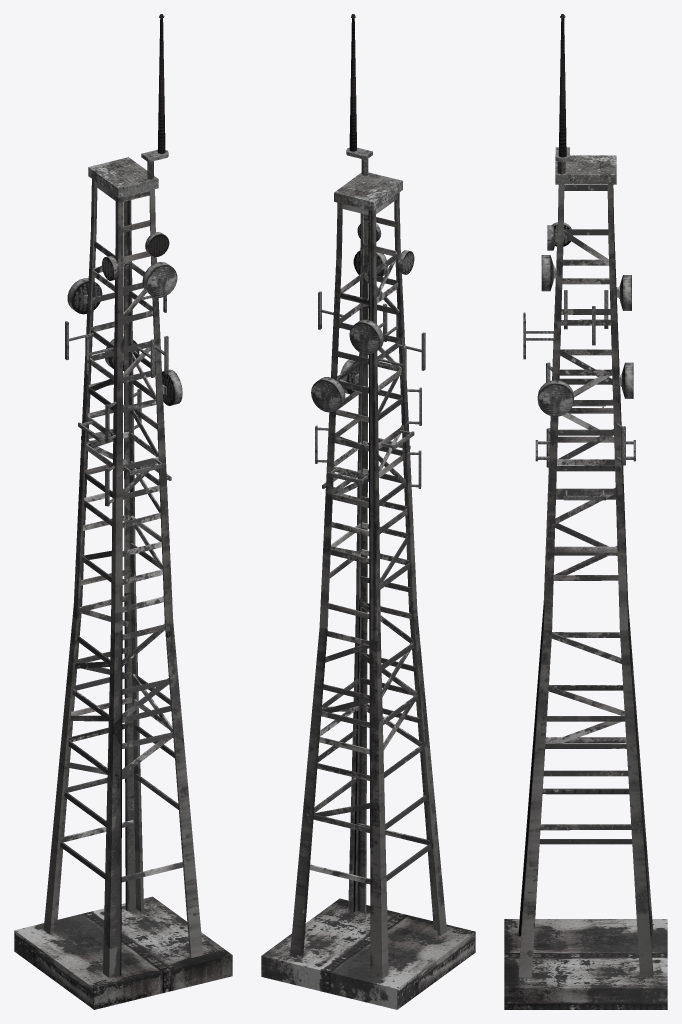
File: TowerAntenna05.FBX
The picture shows the model from 3 angles, left to right: view 1: azimuth 30°, elevation 25°; view 2: azimuth 150°, elevation 25°; view 3: azimuth 270°, elevation 25°; orthographic projection. The views are drawn at different scales.
Parts seen in each view (by area): view 1: TowerAntenna05; view 2: TowerAntenna05; view 3: TowerAntenna05.
Part boxes in pixels (x1,y1,x2,y2): TowerAntenna05: (14, 14, 232, 1009); TowerAntenna05: (261, 14, 475, 1009); TowerAntenna05: (504, 14, 667, 1009).
Bounding box in the file's own units: 2317 × 15243 × 2317.
